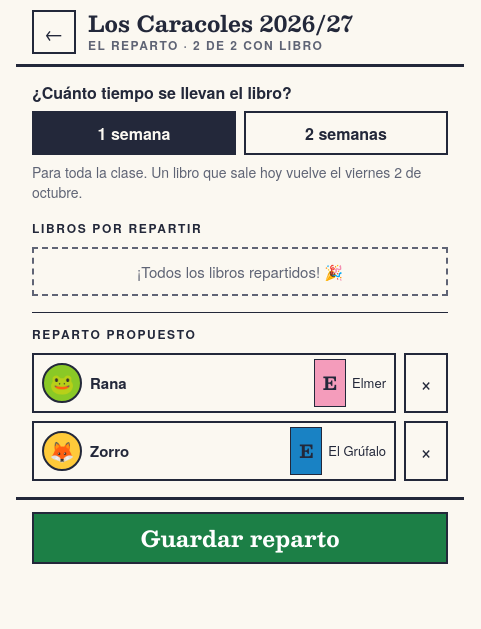
Test: <AssignScreen /> › does not save a reparto with no book handed out
Click the button named "Rana, quitar libro" at (426, 383), box [404,353,448,413]
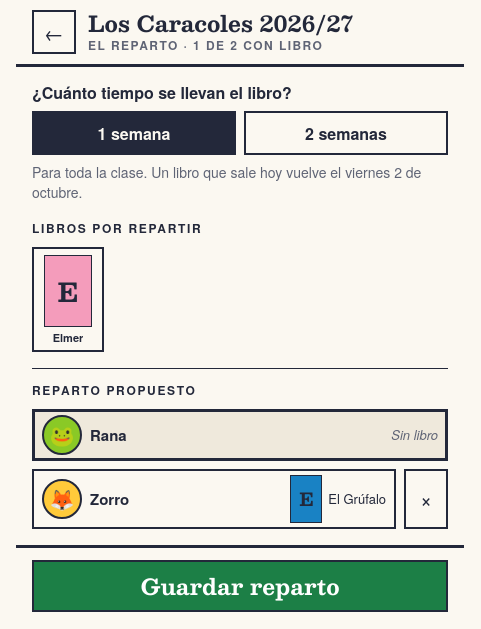
Click the button named "Zorro, quitar libro" at (426, 499), box [404,469,448,529]
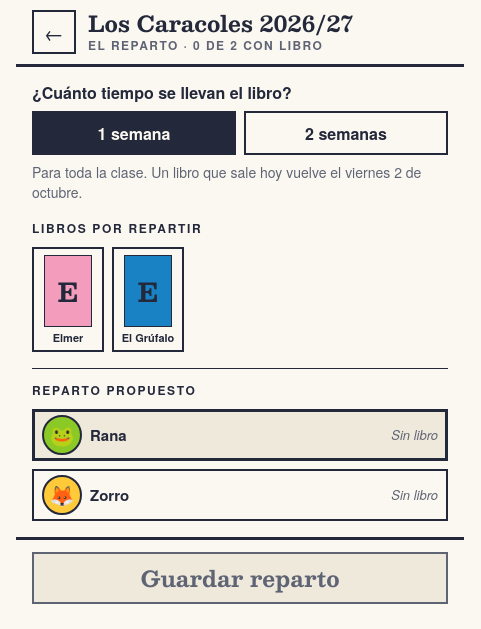
Expected: the button "Guardar reparto" is disabled, [32,552,448,604]
